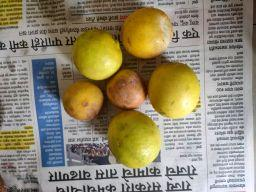lemon: (108, 110, 162, 170), (149, 61, 202, 119), (120, 6, 173, 59), (72, 27, 124, 81), (61, 78, 104, 122), (106, 69, 147, 110)
